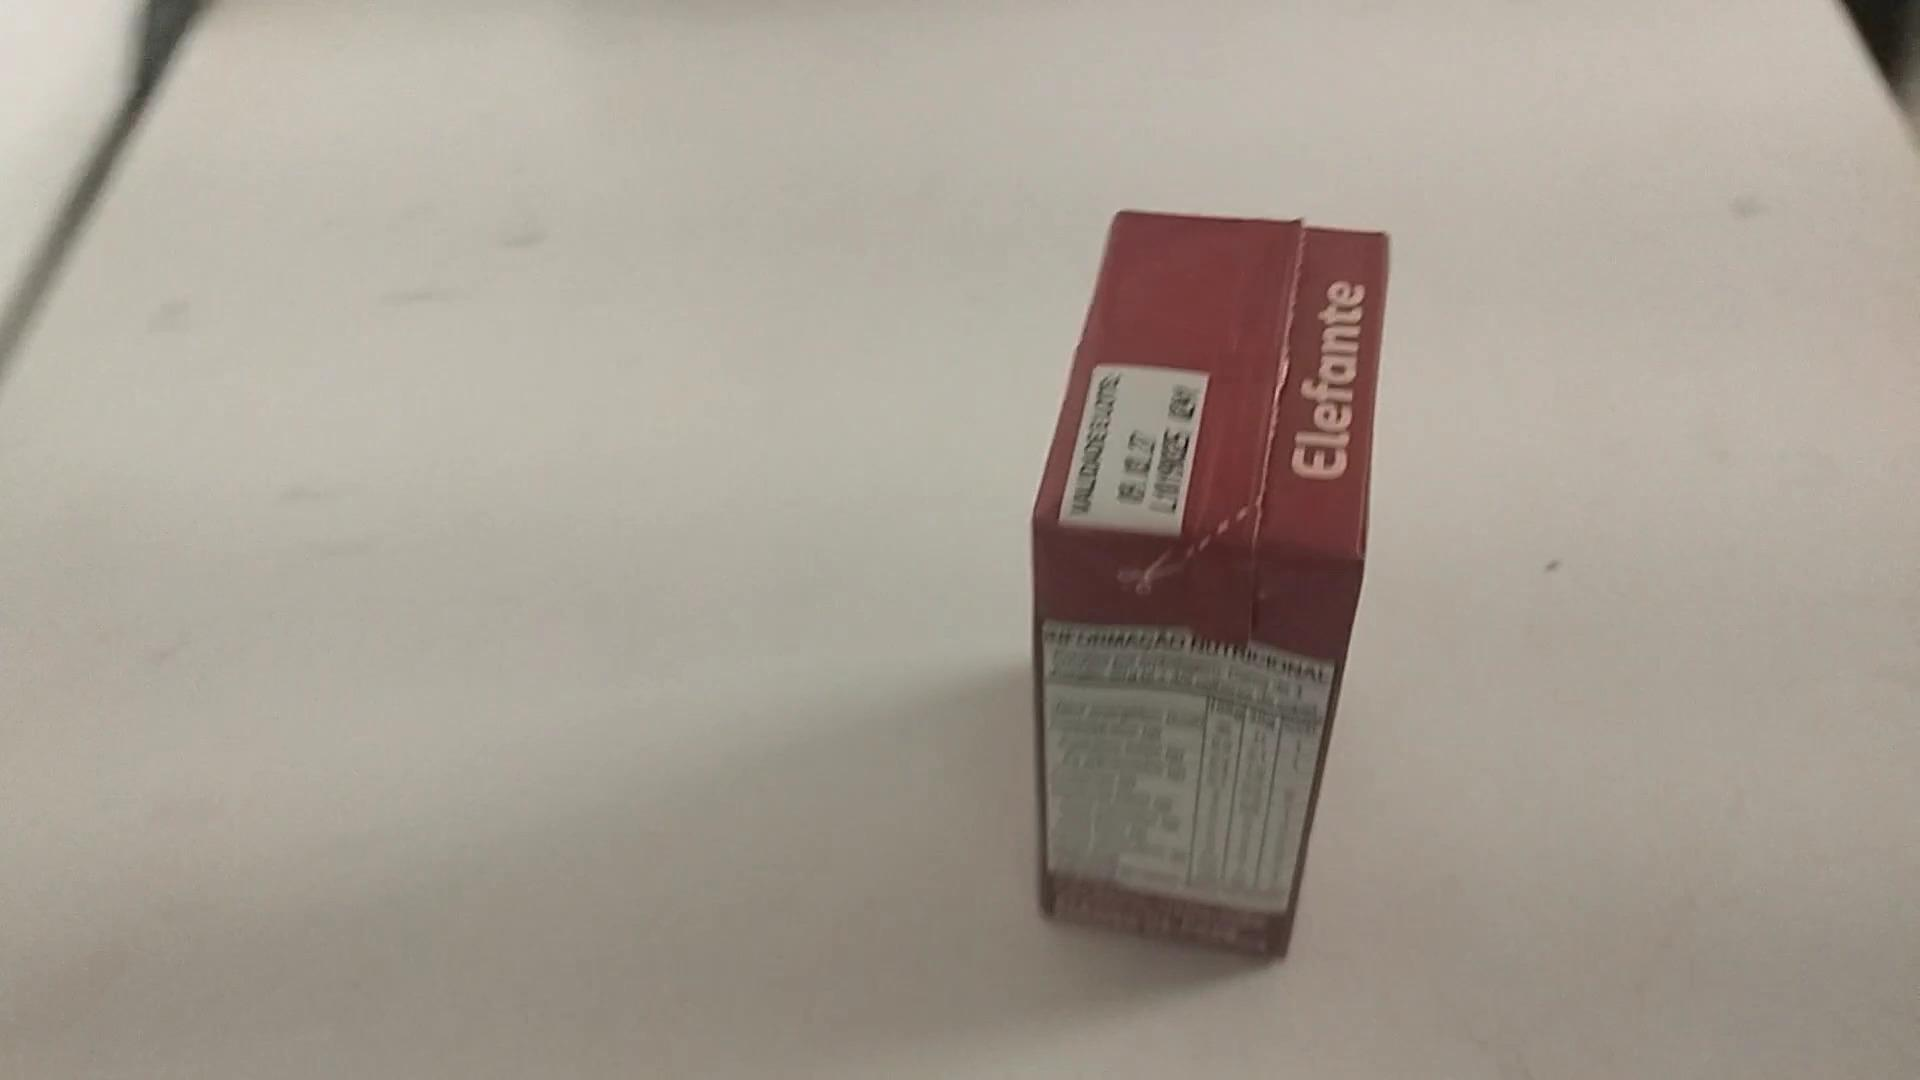tomate: (997, 189, 1403, 975)
